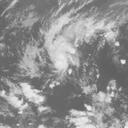cyclone: (43, 32, 81, 80)
